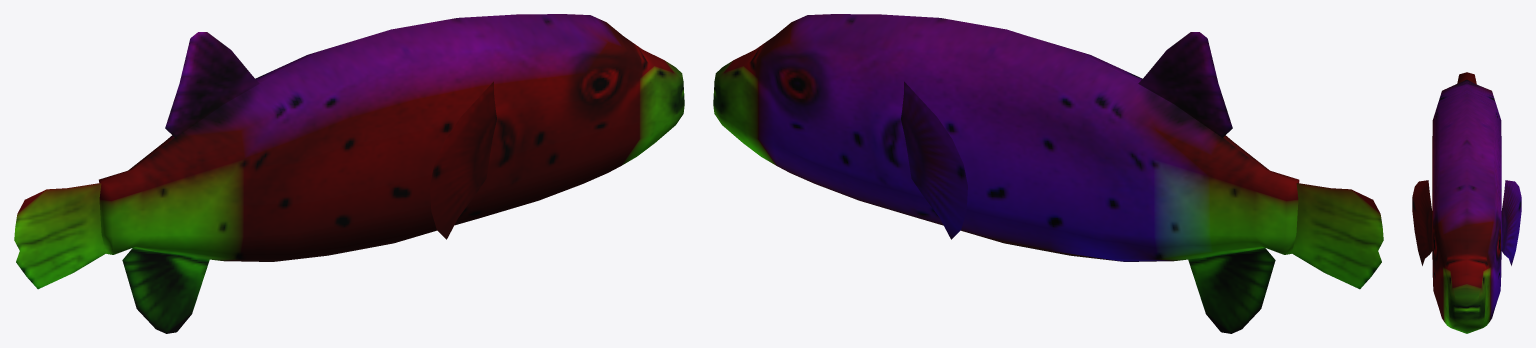
Rendered from blackspotted_puffer.glb.
The picture shows the model from 3 angles, left to right: view 1: azimuth 30°, elevation 25°; view 2: azimuth 150°, elevation 25°; view 3: azimuth 270°, elevation 25°; orthographic projection. The views are drawn at different scales.
Parts seen in each view (by area): view 1: BlackspottedPuffer; view 2: BlackspottedPuffer; view 3: BlackspottedPuffer.
Part boxes in pixels (box(x1,y1,x2,y2)): BlackspottedPuffer: box(14, 14, 684, 333); BlackspottedPuffer: box(713, 14, 1383, 333); BlackspottedPuffer: box(1412, 72, 1521, 333).
Size of the model in its own units: 1 by 0.4222 by 0.1937.
Materials: 1 (1 with a texture image).
